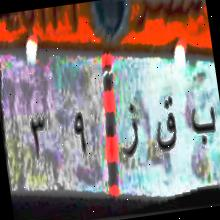3: (25, 106, 53, 168)
9: (69, 104, 92, 160)
baa: (186, 97, 220, 160)
qaaf: (150, 86, 183, 166)
zay: (115, 97, 144, 164)
